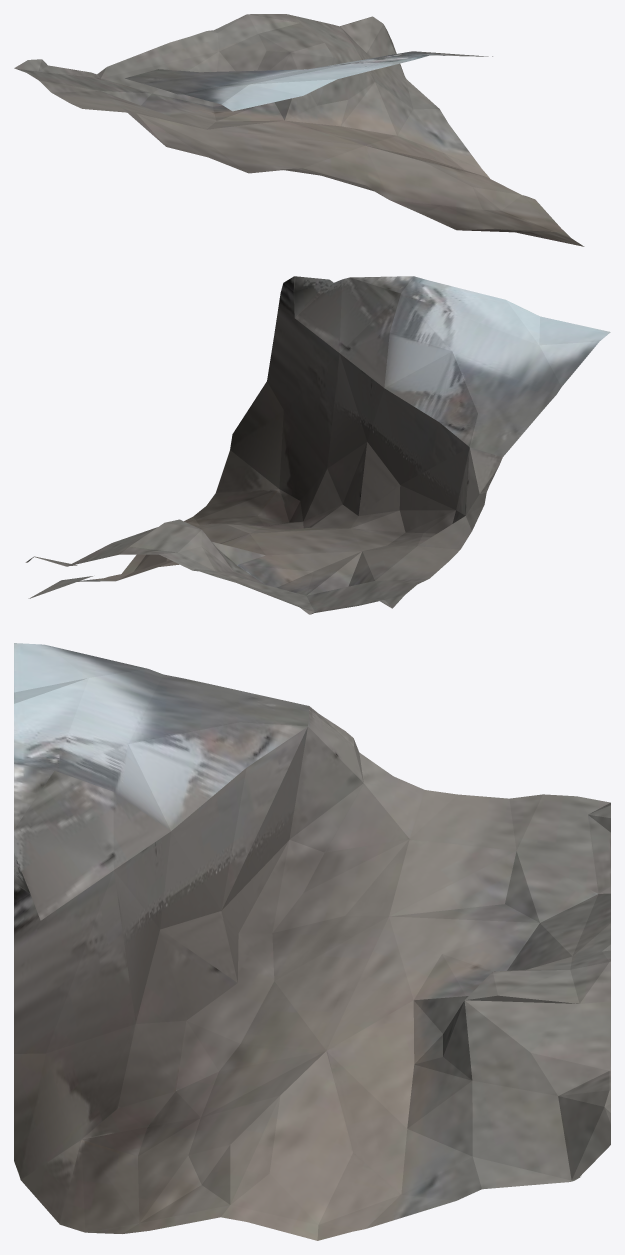
3 views of the same model, one above another, from view 1: azimuth 30°, elevation 25°; view 2: azimuth 150°, elevation 25°; view 3: azimuth 270°, elevation 25° (orthographic). The views are drawn at different scales.
Size of the model in its own units: 1.67 by 1.1 by 1.67.
3 materials, 3 textured.
